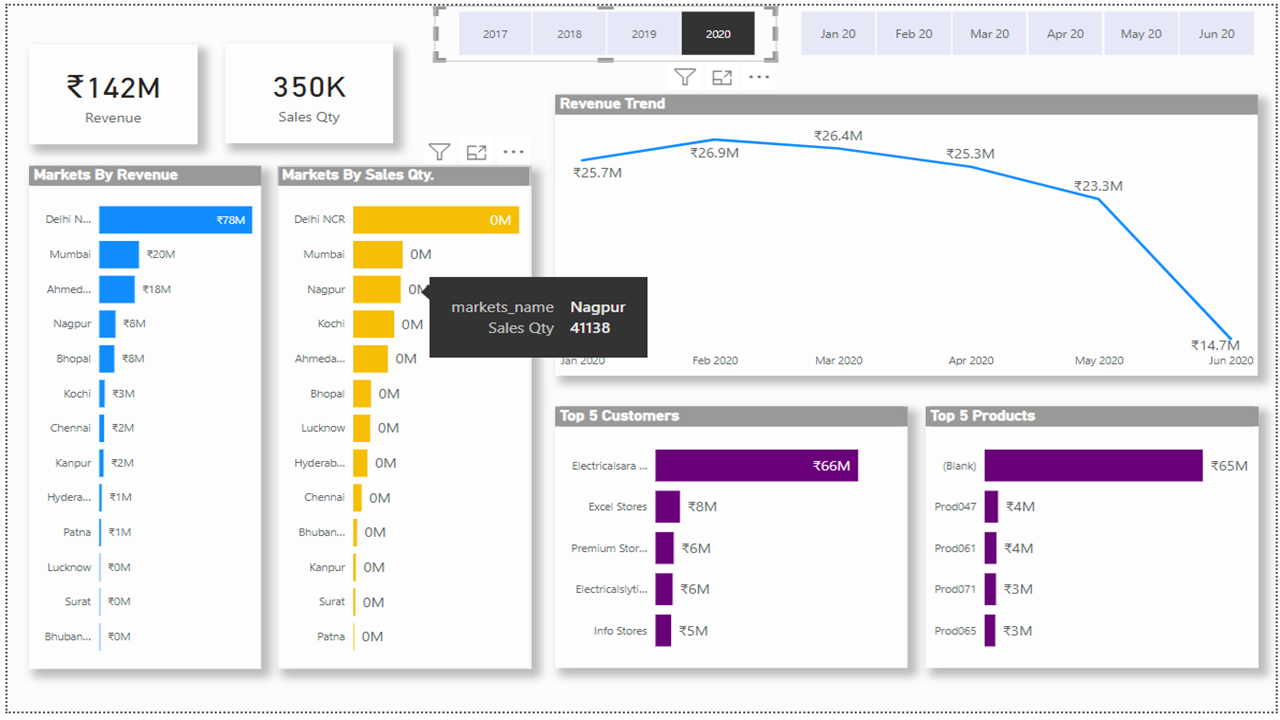

The dashboard page shown, as its layout file describes it:
{"tool":"powerbi","page":{"name":"Key Insights","canvas":[1350,850],"ordinal":0},"visuals":[{"type":"card","fields":{"Values":["BaseMeasures (2).Revenue"]},"box":[23.2,47.8,179.5,120.1],"z":0},{"type":"card","fields":{"Values":["BaseMeasures (2).Sales Qty"]},"box":[231.6,46.3,179.5,120.1],"z":1000},{"type":"barChart","title":"Markets By Revenue","fields":{"Y":["BaseMeasures (2).Revenue"],"Category":["sales markets.markets_name"]},"box":[23.2,192.5,247.5,606.4],"z":2000},{"type":"barChart","title":"Markets By Sales Qty.","fields":{"Y":["BaseMeasures (2).Sales Qty"],"Category":["sales markets.markets_name"]},"box":[286.6,192.5,270.6,606.4],"z":3000},{"type":"slicer","fields":{"Values":["sales date.year"]},"box":[454.4,0,364.7,66.6],"z":4000},{"type":"slicer","fields":{"Values":["sales date.cy_date"]},"box":[818.6,0,531.7,66.5],"z":5000},{"type":"barChart","title":"Top 5 Customers","fields":{"Y":["BaseMeasures (2).Revenue"],"Category":["sales customers.custmer_name"]},"box":[583.2,483.4,374.8,315.5],"z":6000},{"type":"barChart","title":"Top 5 Products","fields":{"Y":["BaseMeasures (2).Revenue"],"Category":["sales products.product_code"]},"box":[976.9,483.4,354.6,315.5],"z":7000},{"type":"lineChart","title":"Revenue Trend","fields":{"Y":["BaseMeasures (2).Revenue"],"Category":["sales date.cy_date"]},"box":[583.2,107.1,748.2,338.7],"z":8000}]}

Visuals, with their boxes on the page's 1350x850 design canvas (x1, y1, x2, y2). These are canvas units, not pixel positions in the 1280x720 screenshot, which may show the page scaled, cropped or inside an application window:
card - BaseMeasures (2).Revenue: left=23, top=48, right=203, bottom=168
card - BaseMeasures (2).Sales Qty: left=232, top=46, right=411, bottom=166
"Markets By Revenue" barChart: left=23, top=192, right=271, bottom=799
"Markets By Sales Qty." barChart: left=287, top=192, right=557, bottom=799
slicer - sales date.year: left=454, top=0, right=819, bottom=67
slicer - sales date.cy_date: left=819, top=0, right=1350, bottom=66
"Top 5 Customers" barChart: left=583, top=483, right=958, bottom=799
"Top 5 Products" barChart: left=977, top=483, right=1332, bottom=799
"Revenue Trend" lineChart: left=583, top=107, right=1331, bottom=446
